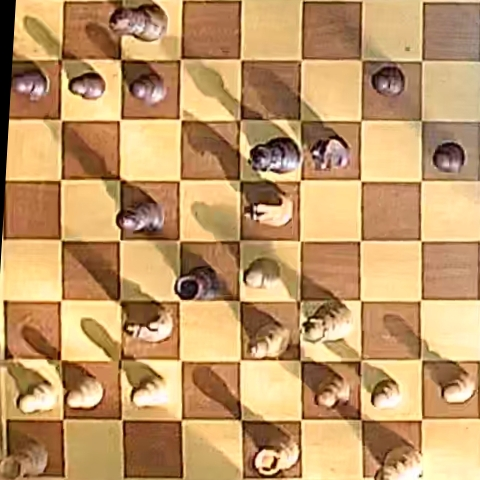black-bishop: (118, 201, 165, 233)
black-king: (110, 3, 168, 41)
black-knight: (310, 136, 350, 171)
black-pawn: (130, 73, 166, 105), (13, 70, 49, 102), (371, 65, 405, 96), (69, 72, 106, 100), (432, 142, 465, 173)
black-queen: (249, 138, 299, 173)
black-rook: (175, 266, 220, 300)
white-bishop: (249, 320, 291, 358)
white-king: (373, 446, 423, 479)
white-knight: (124, 303, 174, 344), (245, 191, 293, 226)
white-pawn: (314, 372, 350, 410), (18, 380, 58, 414), (64, 375, 103, 409), (131, 374, 168, 408), (438, 371, 475, 404), (244, 258, 280, 288), (371, 379, 402, 409)
white-queen: (303, 300, 352, 343)
white-rook: (2, 434, 48, 479), (254, 437, 300, 476)
